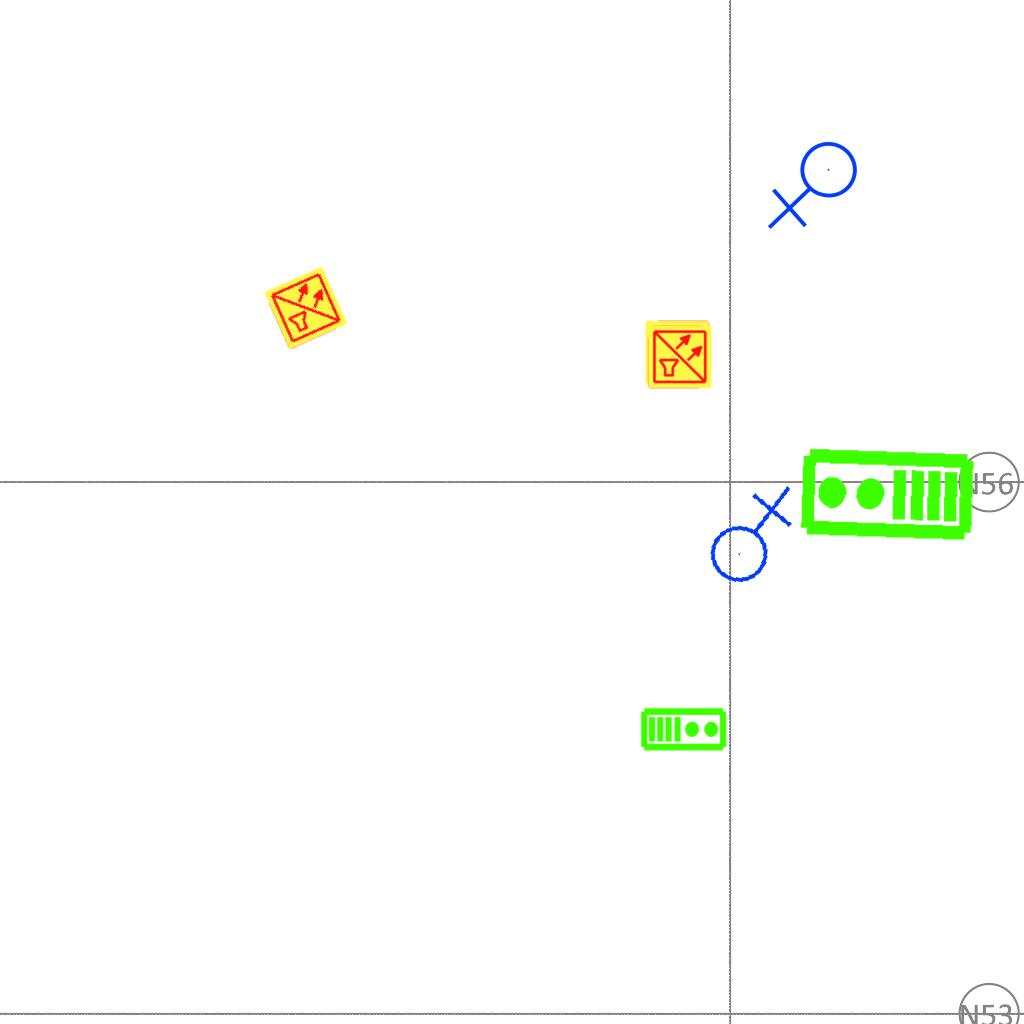Elektroanschluss_allgemein_230V_Geraeteanschlussdose_230V: (692, 480, 805, 590), (767, 140, 866, 234)
Gegensprechanlage_mit_Video: (796, 445, 977, 547), (640, 705, 728, 752)
OKW_Multisensormelder_(Kombination_optischer_Rauch-Kahlenmonoxid_Waerme-Melder): (262, 264, 350, 352), (644, 319, 710, 385), (647, 324, 713, 390)
